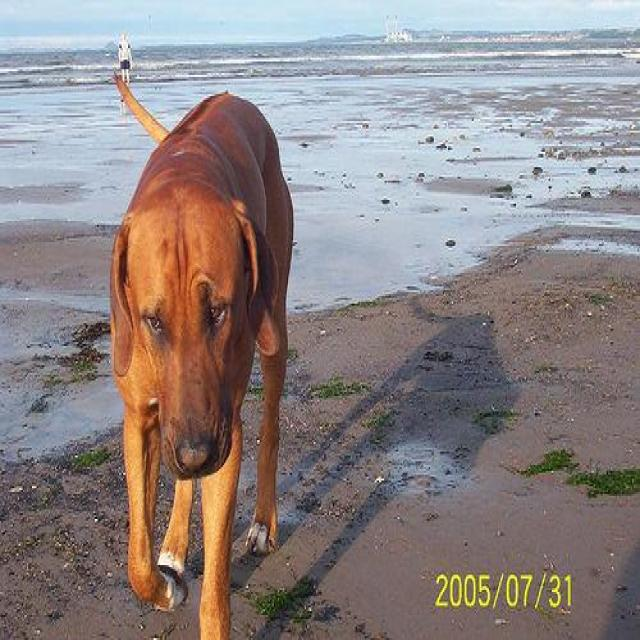rhodesian_ridgeback: (111, 71, 292, 638)
